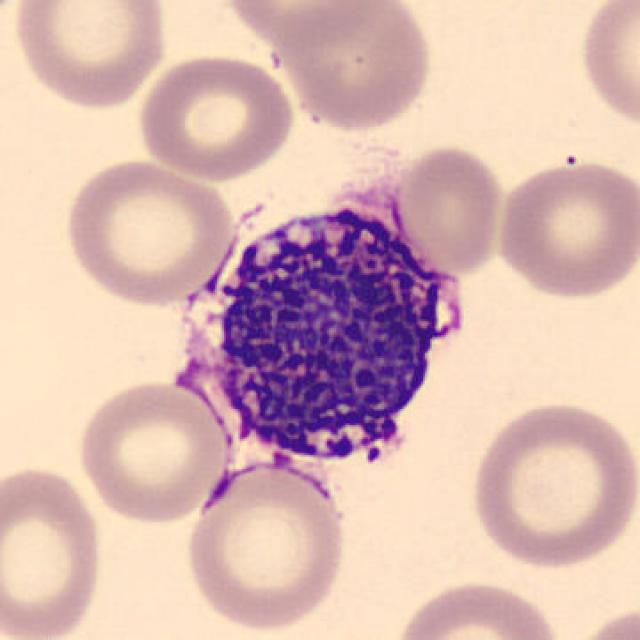Basophil: (153, 176, 478, 492)
RBC: (180, 453, 353, 635), (464, 395, 638, 571), (59, 154, 238, 308), (73, 374, 236, 527), (133, 50, 299, 184), (492, 155, 638, 302), (278, 0, 436, 134), (0, 460, 107, 640), (7, 0, 171, 113), (389, 141, 508, 277), (386, 575, 567, 640), (219, 0, 384, 51), (576, 0, 638, 130), (563, 601, 640, 640)
